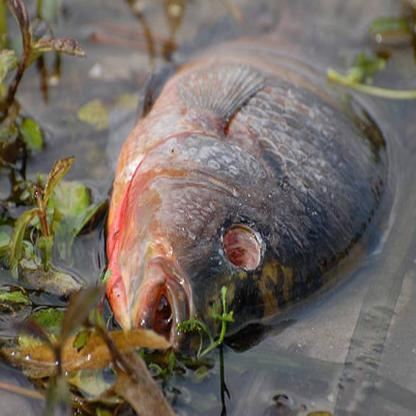deceased fish: (98, 20, 393, 344)
